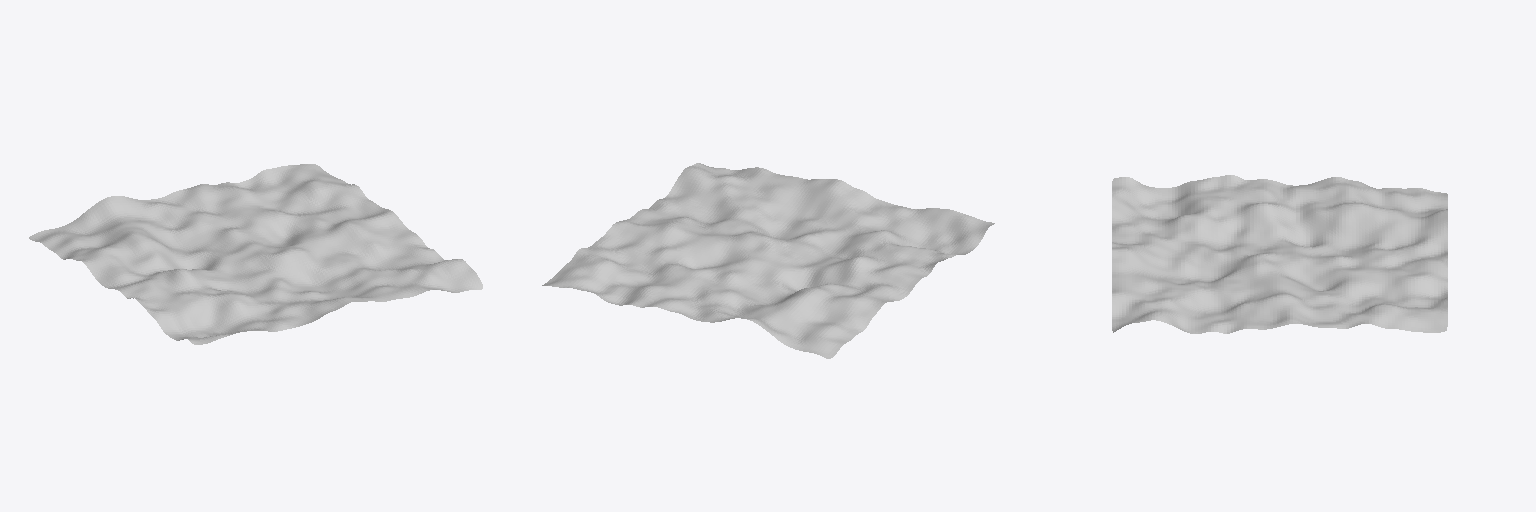
File: dune.obj
3 renders of one model, left to right at view 1: azimuth 30°, elevation 25°; view 2: azimuth 150°, elevation 25°; view 3: azimuth 270°, elevation 25°, orthographic.
Visible parts, largest first — view 1: Plane; view 2: Plane; view 3: Plane.
Part boxes in pixels (left/top/right/bottom): Plane: left=29, top=164, right=482, bottom=344; Plane: left=542, top=163, right=994, bottom=358; Plane: left=1112, top=175, right=1447, bottom=333.
Bounding box in the file's own units: 20 × 1.75 × 20.